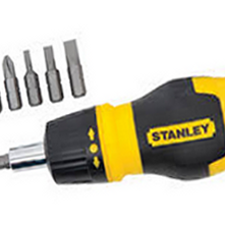Screwdriver: (1, 75, 225, 188)
